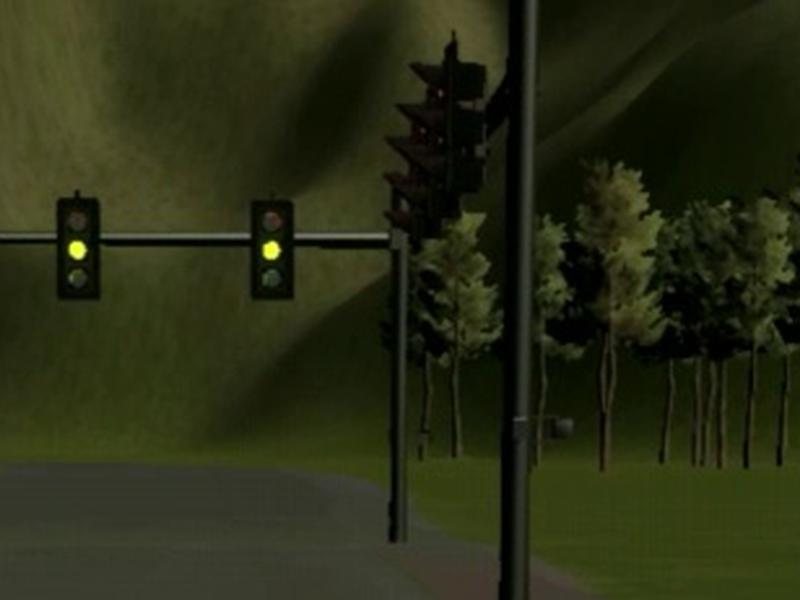Yellow: (57, 198, 100, 299), (251, 200, 294, 300)
